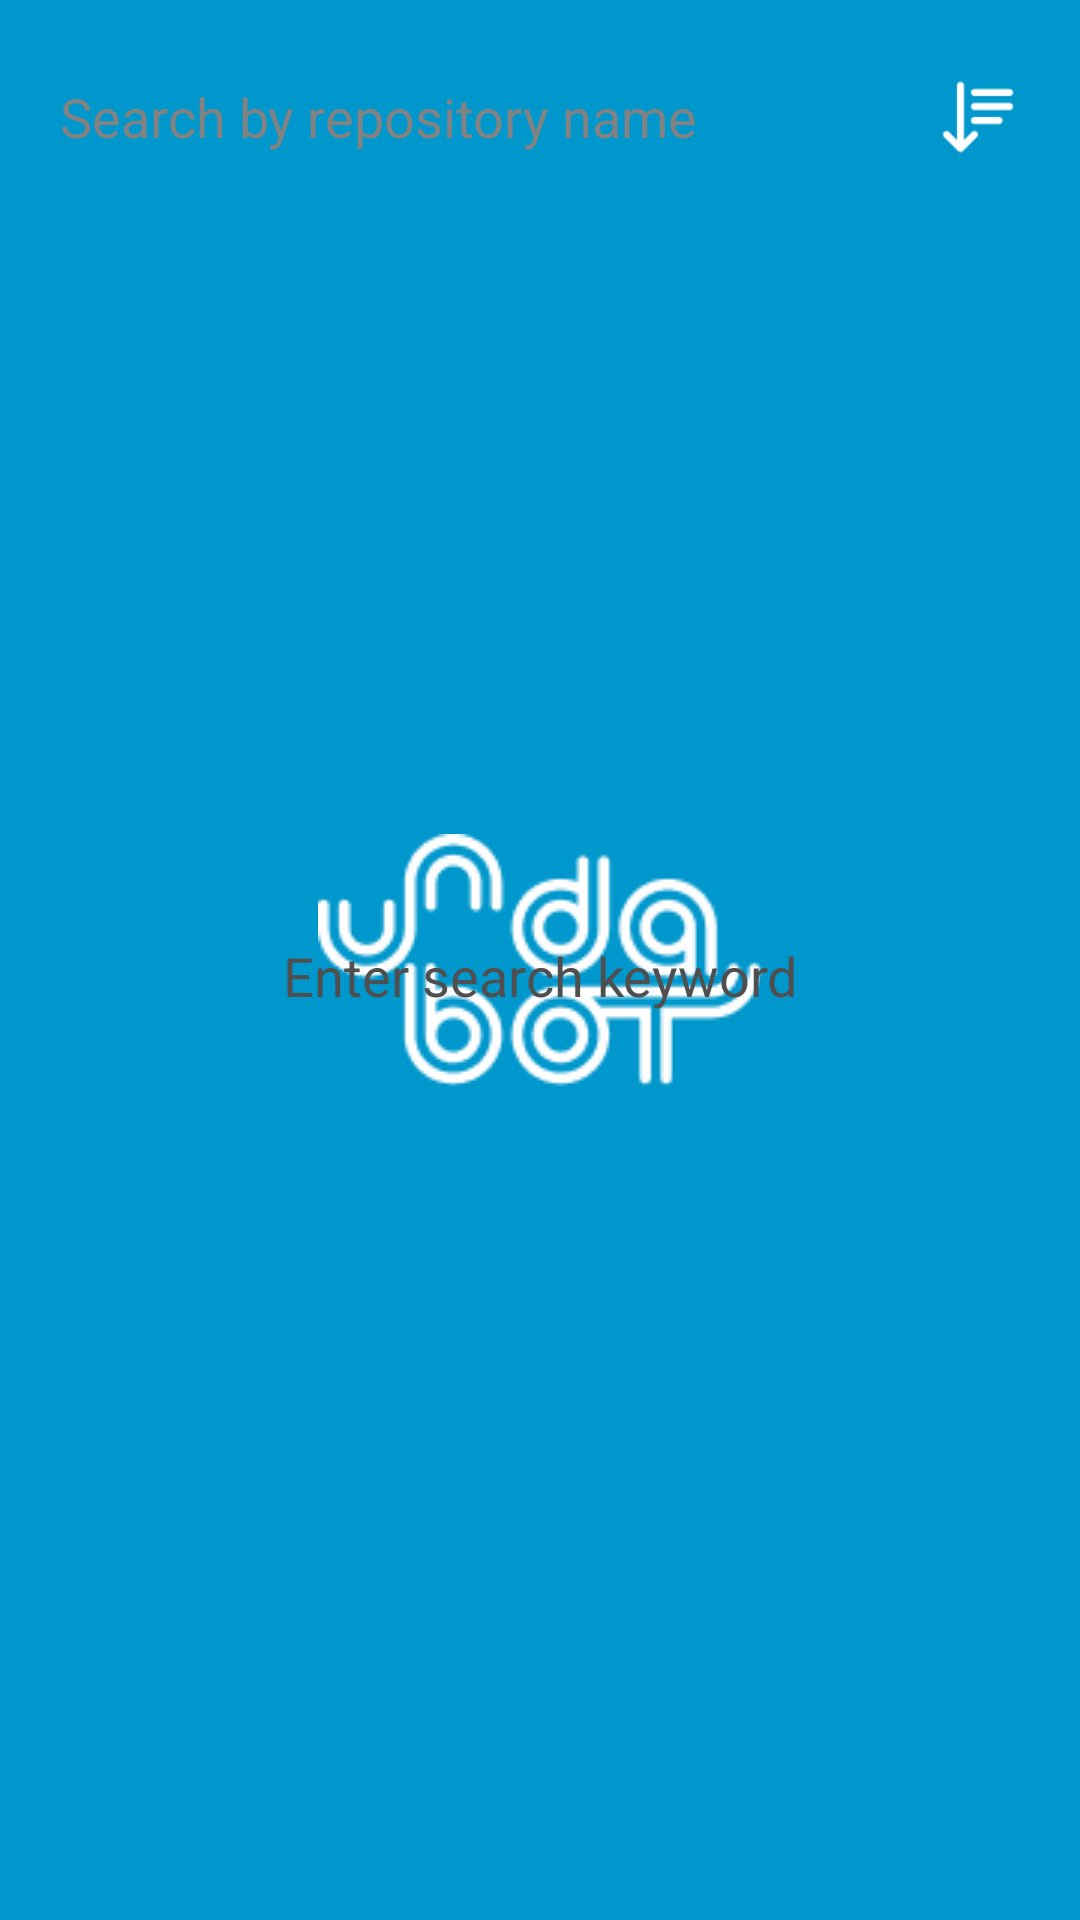

Point at icon controls on the screen. Image size 1080*1920, points as (x=x, y=y).
touch to sort repositories: (x=978, y=117)
